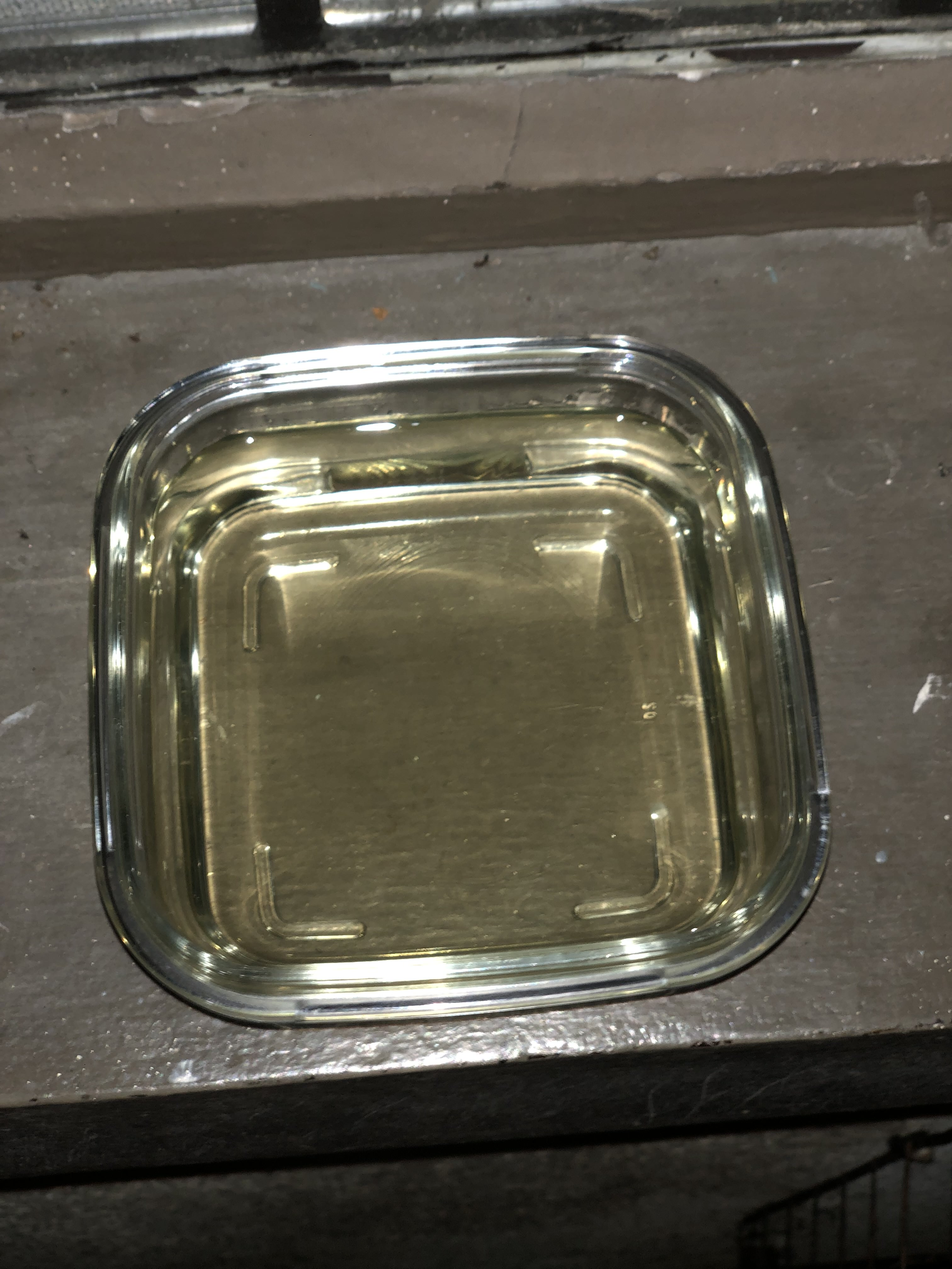reusable: (135, 431, 781, 954)
